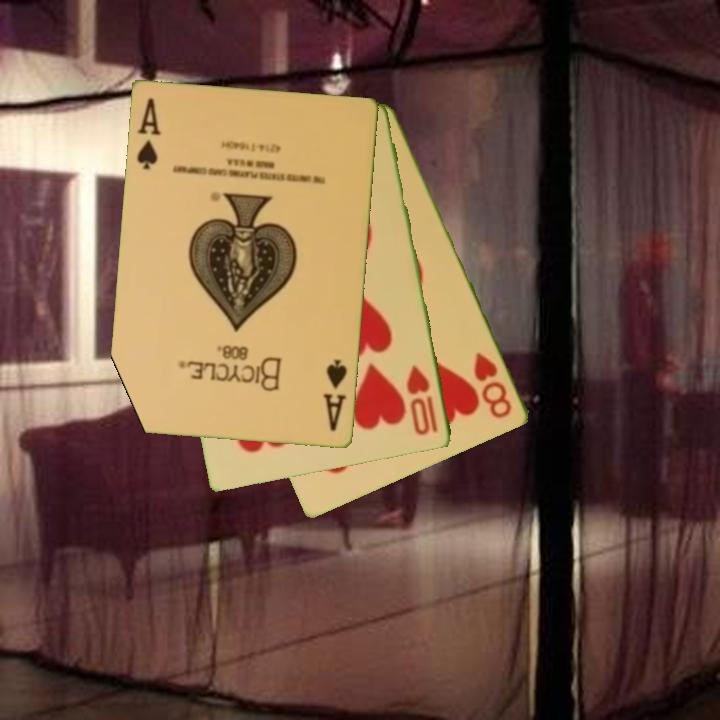10h: (403, 362, 441, 439)
8h: (470, 349, 516, 422)
As: (319, 356, 351, 435), (134, 95, 164, 173)
